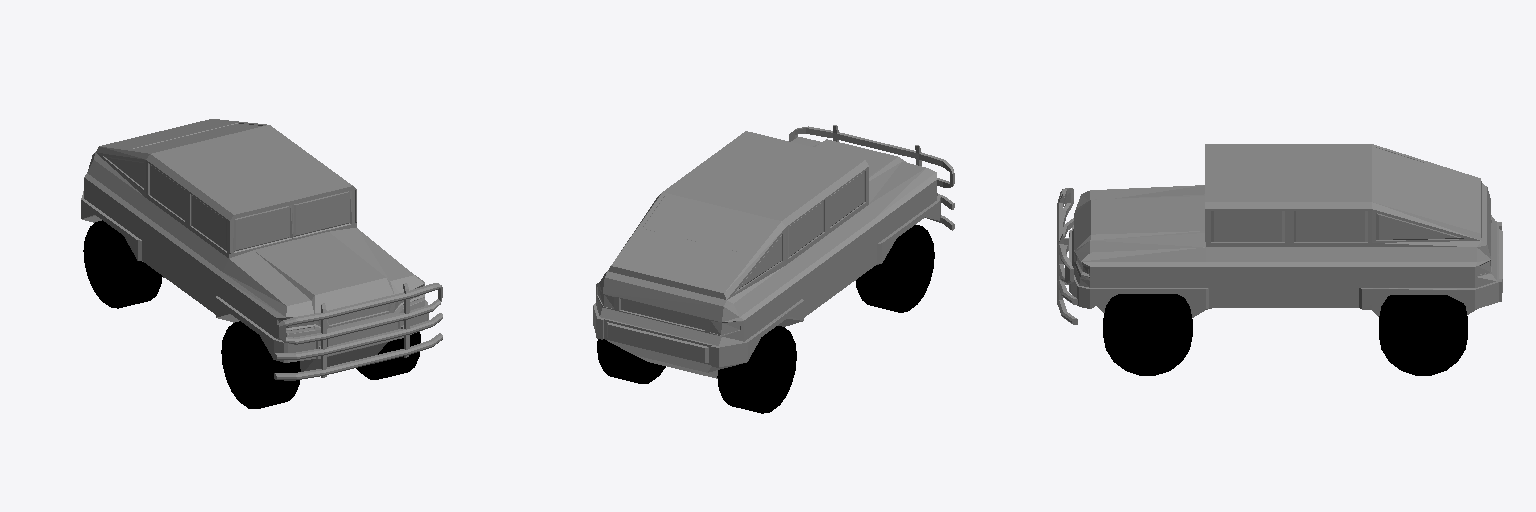
The model's file is Car.obj.
The picture shows the model from 3 angles: view 1: azimuth 30°, elevation 25°; view 2: azimuth 150°, elevation 25°; view 3: azimuth 270°, elevation 25°; orthographic projection.
Parts seen in each view (by area): view 1: Box001, Cylinder002, Cylinder001, Cylinder003; view 2: Box001, Cylinder002, Cylinder001, Cylinder004; view 3: Box001, Cylinder003, Cylinder004.
Boxes of the visible parts, x1=… form: Box001: x1=81, y1=119, x2=442, y2=380; Cylinder002: x1=83, y1=220, x2=162, y2=308; Cylinder001: x1=221, y1=321, x2=300, y2=408; Cylinder003: x1=356, y1=332, x2=420, y2=379; Box001: x1=593, y1=125, x2=954, y2=378; Cylinder002: x1=717, y1=326, x2=796, y2=413; Cylinder001: x1=856, y1=225, x2=934, y2=312; Cylinder004: x1=597, y1=339, x2=665, y2=383; Box001: x1=1057, y1=144, x2=1502, y2=324; Cylinder003: x1=1103, y1=294, x2=1192, y2=375; Cylinder004: x1=1379, y1=295, x2=1467, y2=375.
Size of the model in its own units: 138 by 132 by 321.